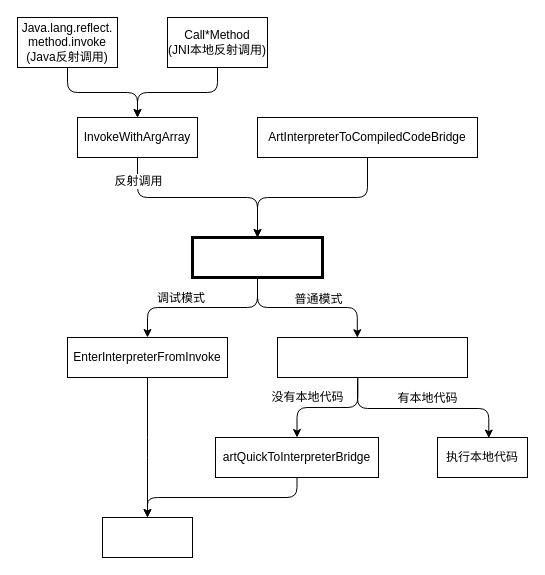
This 545x575 diagram has some shape labels left out. Here are the shapes that lost their labels. From the top down, the centre of each, then its label:
(x=257, y=257): ArtMethod::Invoke
(x=372, y=357): entry_point_from_quick_code
(x=147, y=537): Execute
